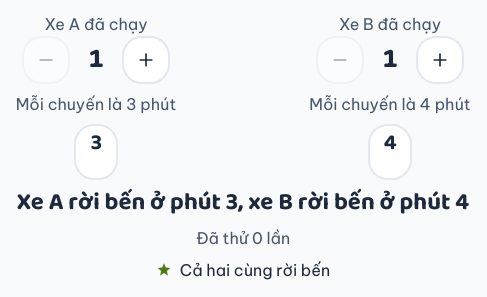
it: MeetTry wording and counter › starts at zero tries and names each side's place in words
The width and height of the screenshot is (487, 297).
Expected: the text "Đã thử 0 lần" is shown, [196, 226, 290, 250]
Expected: the text "Xe A rời bến ở phút 3, xe B rời bến ở phút 4" is shown, [17, 188, 469, 218]
Click the button named "Tăng xe a đã chạy": (146, 60) [122, 36, 170, 84]
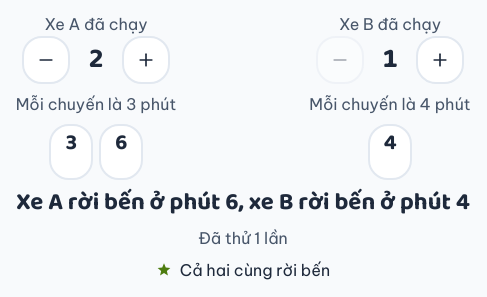
Result: the text "Đã thử 1 lần" is shown at [198, 226, 288, 250]
